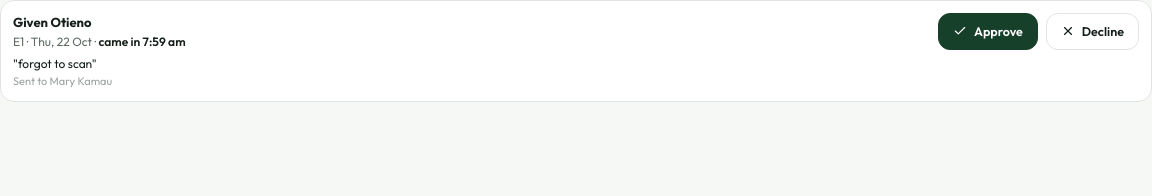
Test: Missed scans waiting › lists only what the person may decide, and approves in one tap
The image size is (1152, 196).
Expected: the number of list items is 1, x1=0 y1=0 x2=1151 y2=102
What coordinates should you click on to do the following:
click the button with aria-label "Approve Given Otieno's missed scan"
I would click on:
 (988, 31)
Its box is x1=938 y1=13 x2=1038 y2=50.
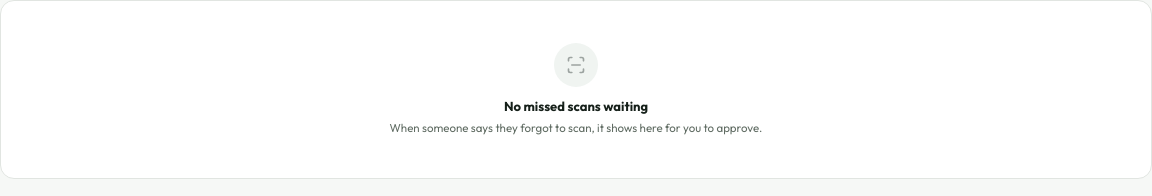
Result: the text "No missed scans waiting" is shown at x1=504 y1=97 x2=648 y2=116
